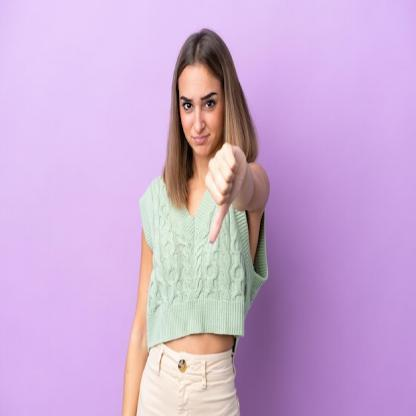thumb_down: (202, 140, 249, 246)
